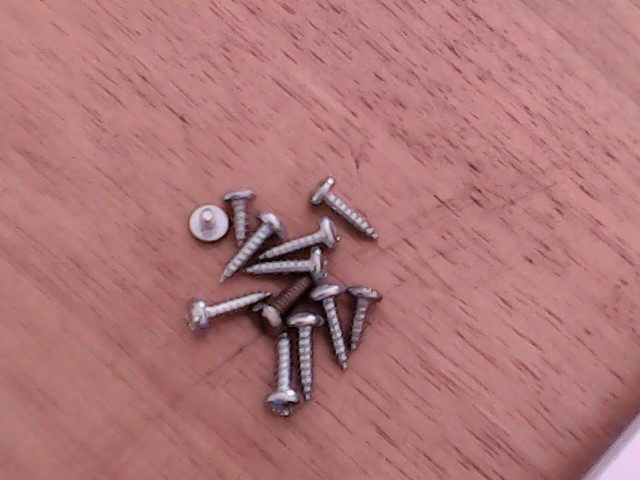Metal: (173, 171, 377, 480)
